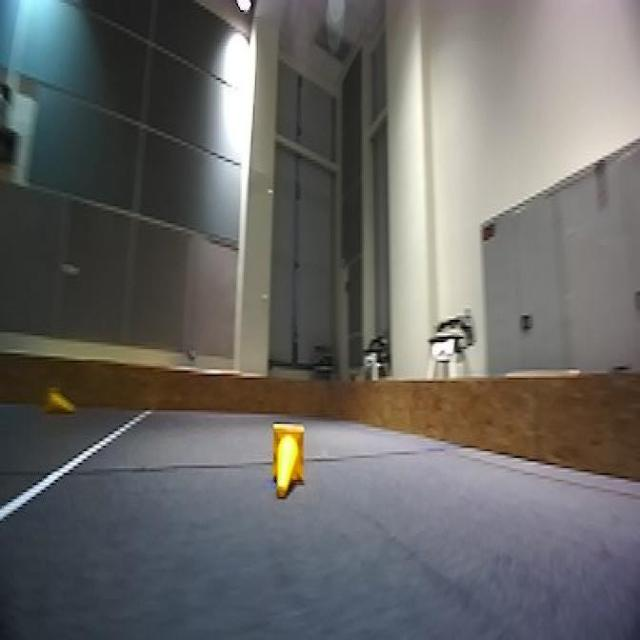frc_cone: (272, 418, 306, 498), (42, 385, 77, 417)
